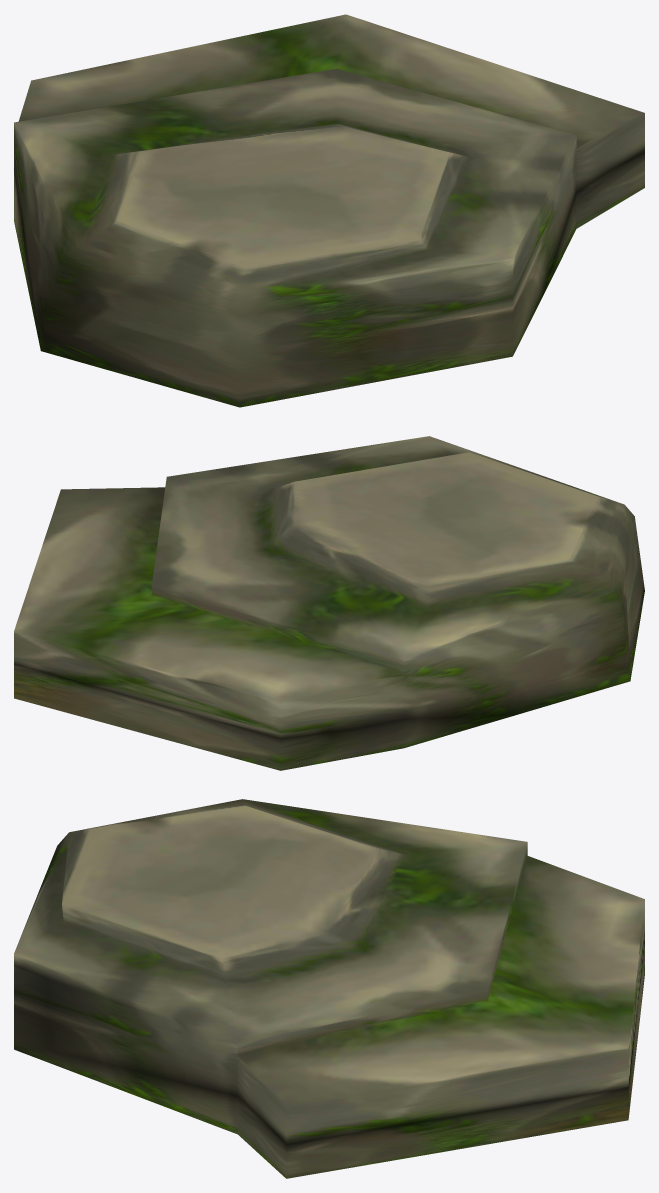
File: RockFormation_4_5 (33).fbx
3 renders of one model, top to bottom at view 1: azimuth 30°, elevation 25°; view 2: azimuth 150°, elevation 25°; view 3: azimuth 270°, elevation 25°, orthographic. The views are drawn at different scales.
Parts seen in each view (by area): view 1: RockFormation_4_5 (33); view 2: RockFormation_4_5 (33); view 3: RockFormation_4_5 (33).
Boxes of the visible parts, x1,y1,x2,y2 form: RockFormation_4_5 (33): (14,14,644,407); RockFormation_4_5 (33): (14,436,644,770); RockFormation_4_5 (33): (14,799,644,1178).
Bounding box in the file's own units: 2473 × 440 × 2237.
